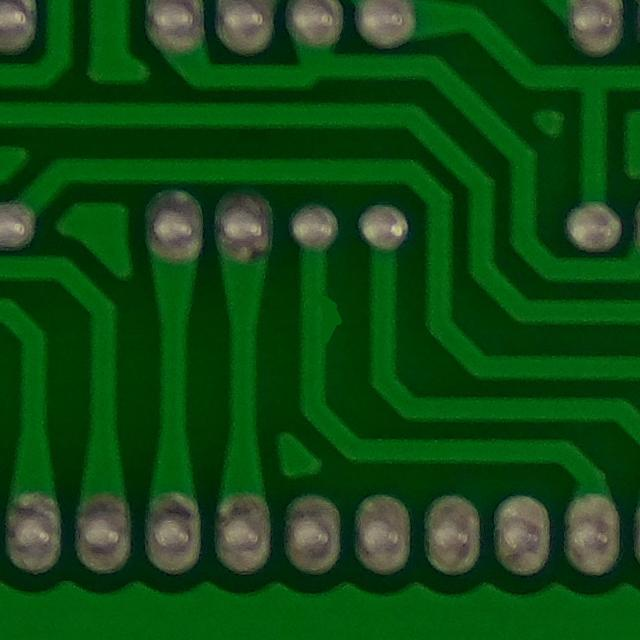spur: (284, 283, 356, 357)
